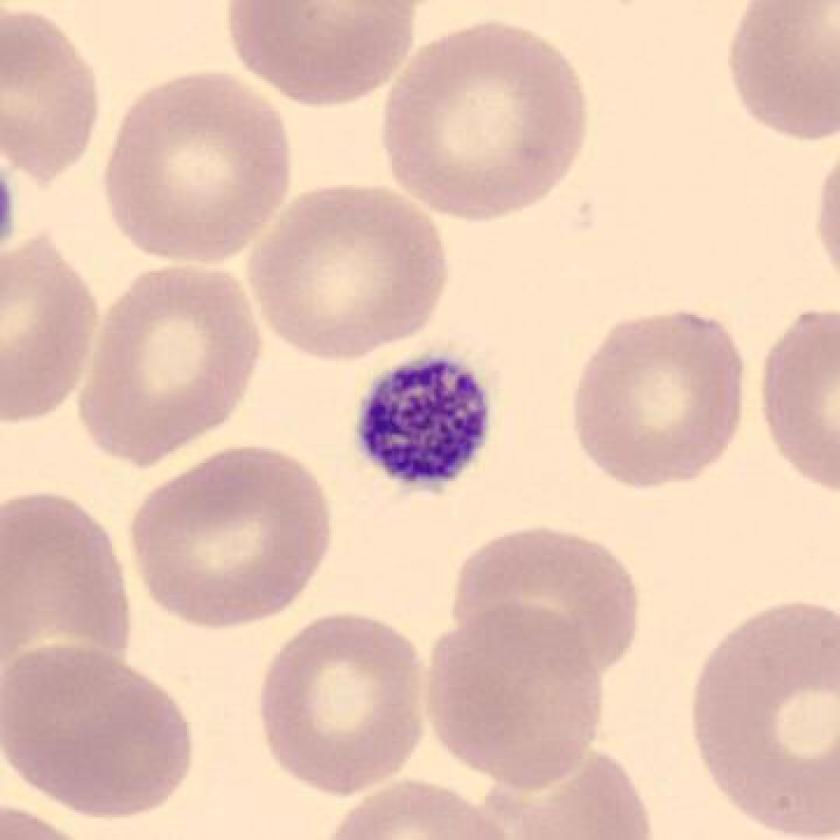platelets: (346, 341, 503, 508)
